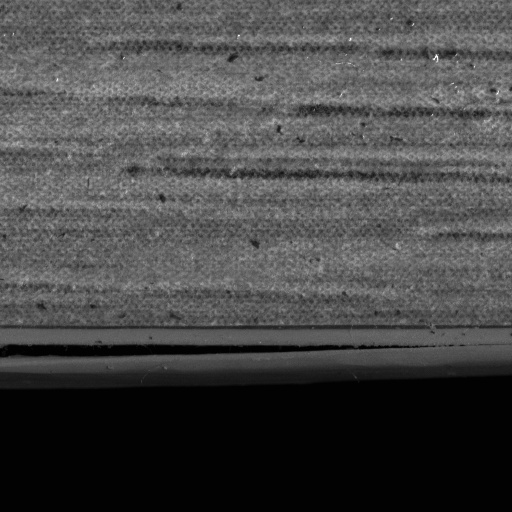kaijiao: (0, 322, 463, 382)
